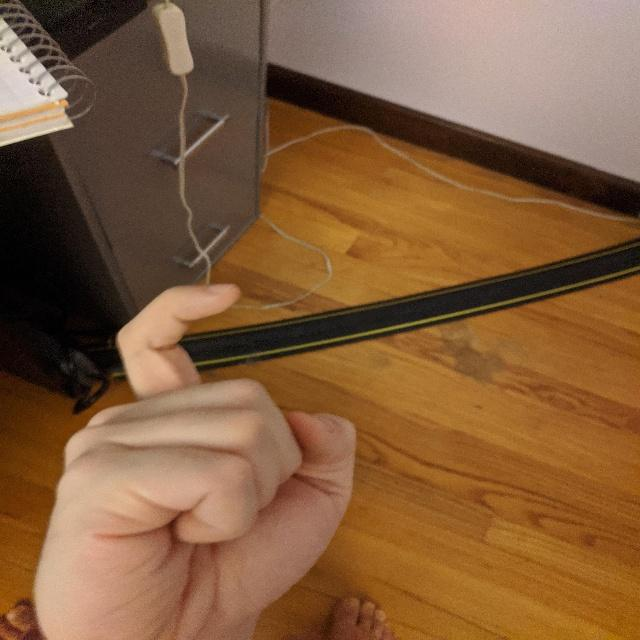X: (23, 276, 373, 639)
